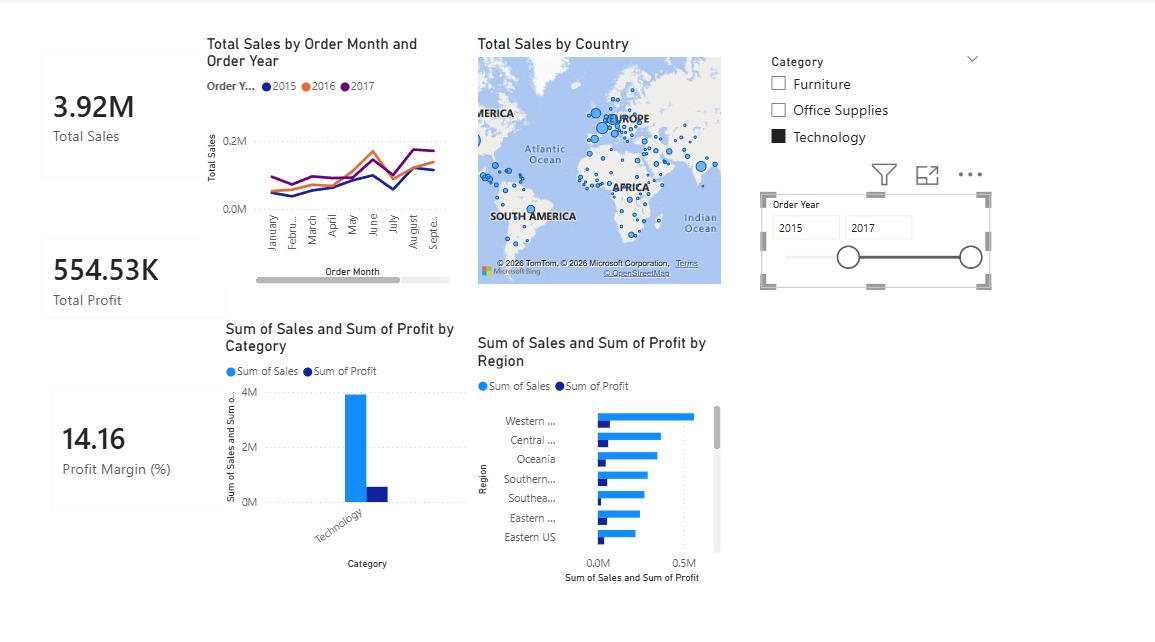

Layout of this report page (visuals, bound fields, positions):
{"tool":"powerbi","page":{"name":"Page 1","canvas":[1280,720],"ordinal":0},"visuals":[{"type":"cardVisual","fields":{"Data":["Orders.Total Sales"]},"box":[29.6,41.9,240.7,176.1],"z":0},{"type":"cardVisual","fields":{"Data":["Orders.Total Profit"]},"box":[29.6,249.4,240.7,123.8],"z":1000},{"type":"cardVisual","fields":{"Data":["Orders.Profit Margin (%)"]},"box":[40.1,413.3,230.2,170.9],"z":2000},{"type":"lineChart","fields":{"Category":["Orders.Order Month"],"Y":["Orders.Total Sales"],"Series":["Orders.Order Year"]},"box":[225,41.9,279,280.8],"z":3000},{"type":"map","fields":{"Category":["Orders.Country"],"Size":["Orders.Total Sales"]},"box":[524.9,41.9,279,280.8],"z":4000},{"type":"clusteredColumnChart","fields":{"Category":["Orders.Category"],"Y":["Sum(Orders.Sales)","Sum(Orders.Profit)"]},"box":[245.9,357.5,279,280.8],"z":5000},{"type":"clusteredBarChart","fields":{"Category":["Orders.Region"],"Y":["Sum(Orders.Sales)","Sum(Orders.Profit)"]},"box":[524.9,373.2,279,280.8],"z":6000},{"type":"slicer","fields":{"Values":["Orders.Order Year"]},"box":[844.1,218,252.9,104.6],"z":7000},{"type":"slicer","fields":{"Values":["Orders.Category"]},"box":[842.3,57.5,254.6,144.7],"z":8000}]}

Visuals, with their boxes in screenshot pixels (x1, y1, x2, y2), scaled from the page's 1280x720 canvas onto the 1155x642 screenshot:
cardVisual - Orders.Total Sales: [left=27, top=37, right=244, bottom=194]
cardVisual - Orders.Total Profit: [left=27, top=222, right=244, bottom=333]
cardVisual - Orders.Profit Margin (%): [left=36, top=369, right=244, bottom=521]
lineChart - Orders.Order Month x Orders.Total Sales: [left=203, top=37, right=455, bottom=288]
map - Orders.Country x Orders.Total Sales: [left=474, top=37, right=725, bottom=288]
clusteredColumnChart - Orders.Category x Sum(Orders.Sales): [left=222, top=319, right=474, bottom=569]
clusteredBarChart - Orders.Region x Sum(Orders.Sales): [left=474, top=333, right=725, bottom=583]
slicer - Orders.Order Year: [left=762, top=194, right=990, bottom=288]
slicer - Orders.Category: [left=760, top=51, right=990, bottom=180]
